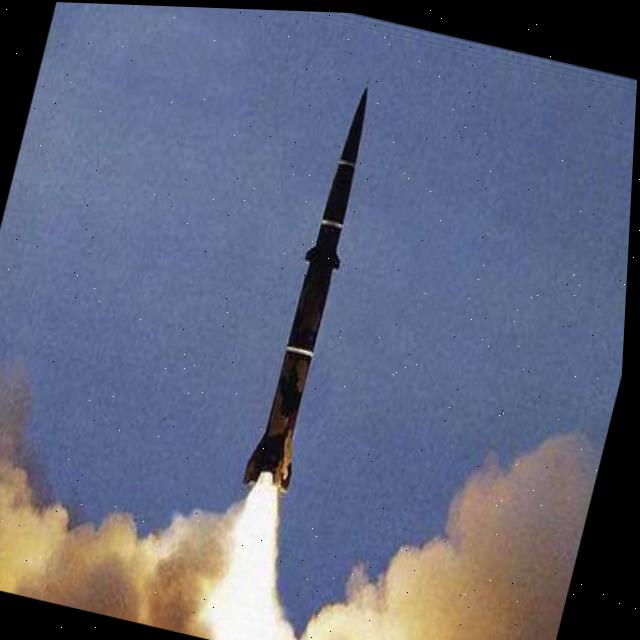missile: (244, 68, 397, 512)
